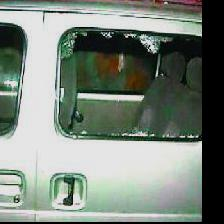glass_shatter: (44, 29, 197, 144)
